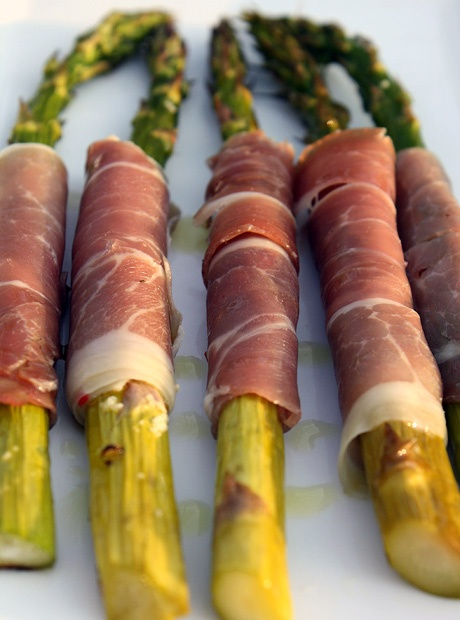background: (137, 8, 330, 600), (0, 8, 138, 600)
